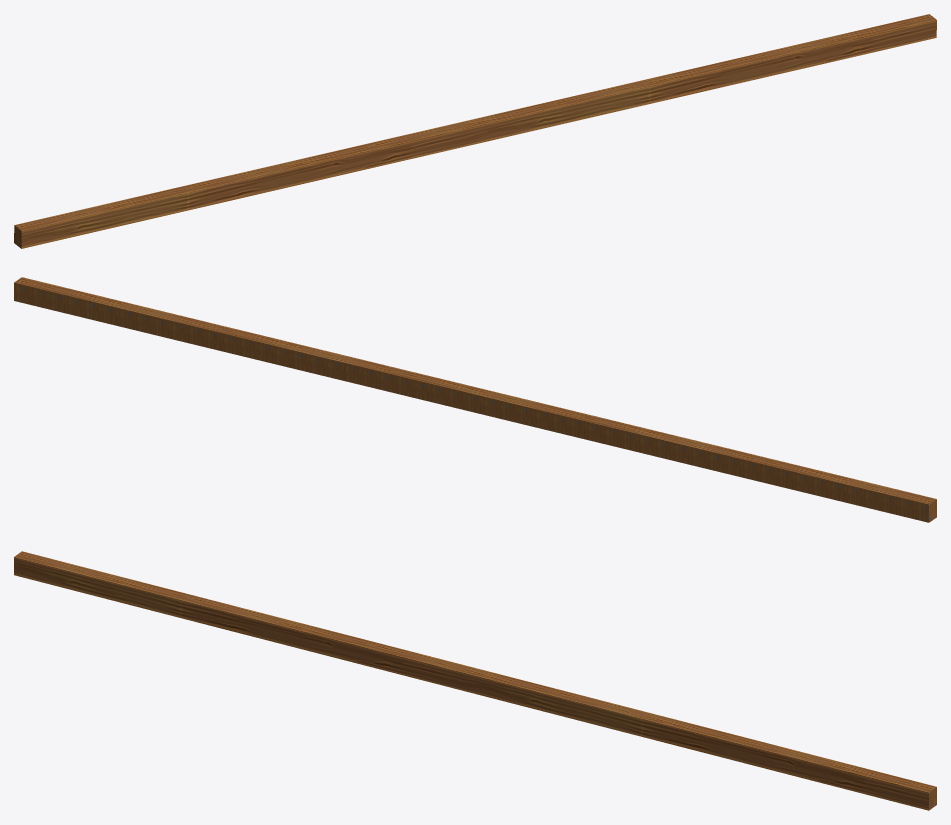
The picture shows the model from 3 angles, top to bottom: view 1: azimuth 30°, elevation 25°; view 2: azimuth 150°, elevation 25°; view 3: azimuth 330°, elevation 25°; orthographic projection.
Visible parts, largest first — view 1: Cube.778; view 2: Cube.778; view 3: Cube.778.
Boxes of the visible parts, bbox=[...] form: Cube.778: bbox=[14, 14, 936, 248]; Cube.778: bbox=[14, 277, 936, 522]; Cube.778: bbox=[14, 551, 936, 810].
Size of the model in its own units: 1005 by 26.42 by 25.67.
Materials: 1 (1 with a texture image).
